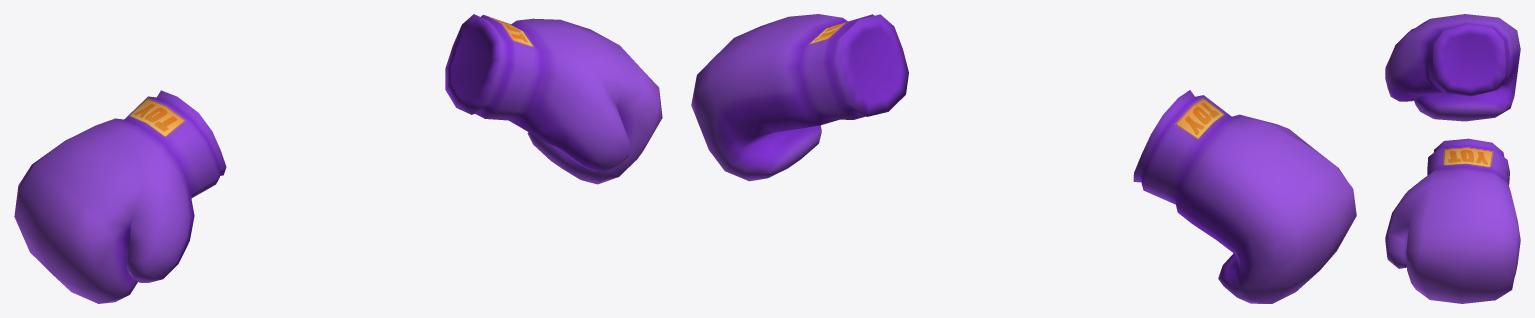
File: GLOVES.fbx
3 views of the same model, side by side, from view 1: azimuth 30°, elevation 25°; view 2: azimuth 150°, elevation 25°; view 3: azimuth 270°, elevation 25° (orthographic). The views are drawn at different scales.
Visible parts, largest first — view 1: gloves; view 2: gloves; view 3: gloves.
Boxes of the visible parts, bbox=[...] form: gloves: bbox=[14, 14, 662, 303]; gloves: bbox=[691, 14, 1356, 303]; gloves: bbox=[1385, 14, 1520, 303].
Size of the model in its own units: 183 by 49.62 by 47.2.
